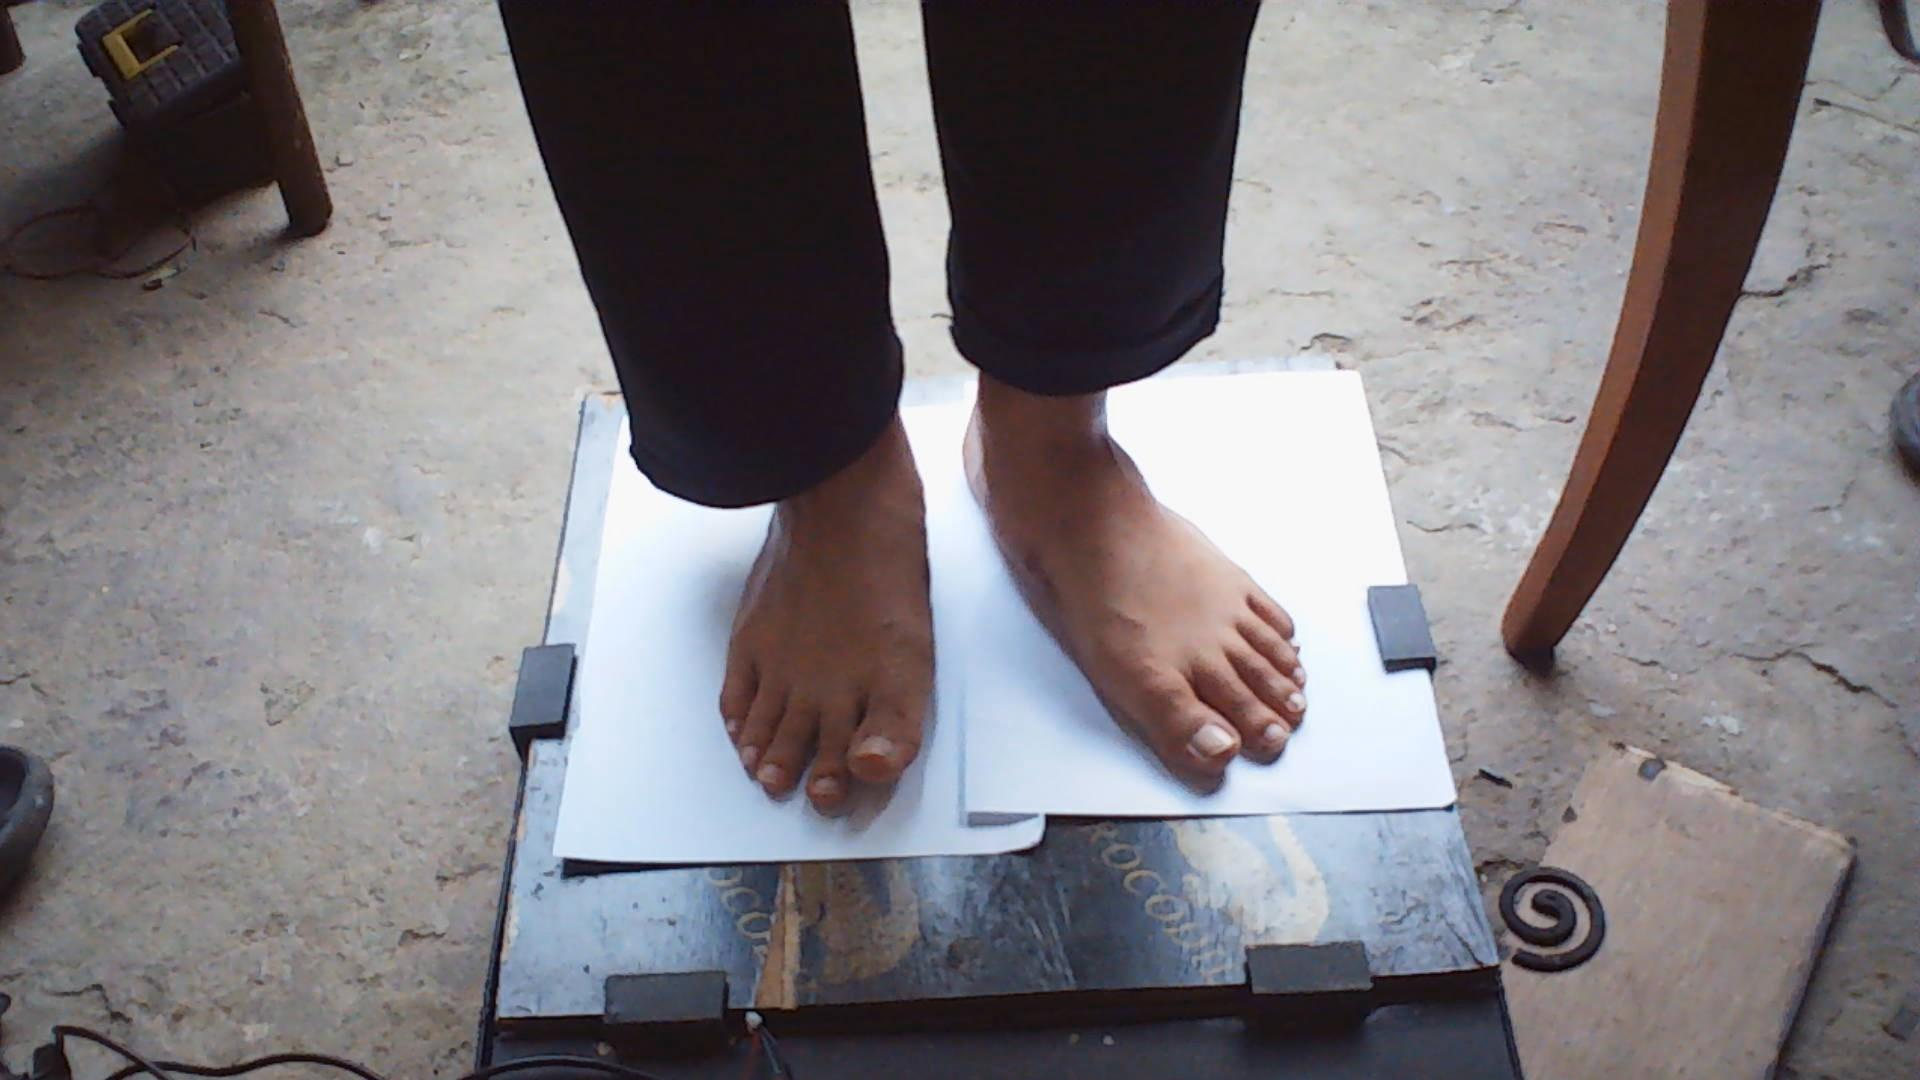Bare_feet: (944, 417, 1323, 820), (705, 513, 960, 810)
